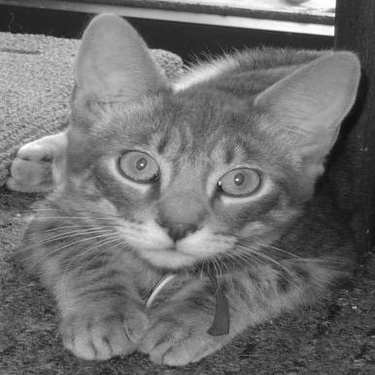cat: (1, 15, 372, 367)
